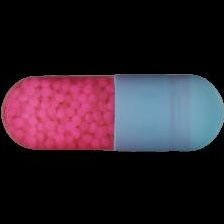68151-2718: (0, 0, 224, 224)
